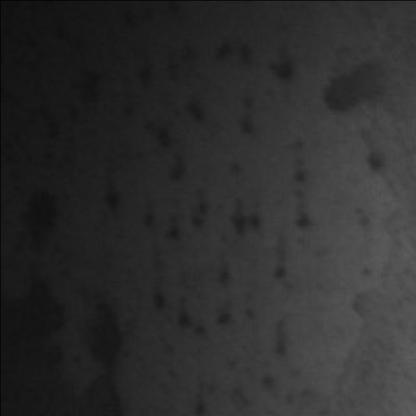pitted_surface: (131, 44, 385, 395), (6, 135, 96, 414)
